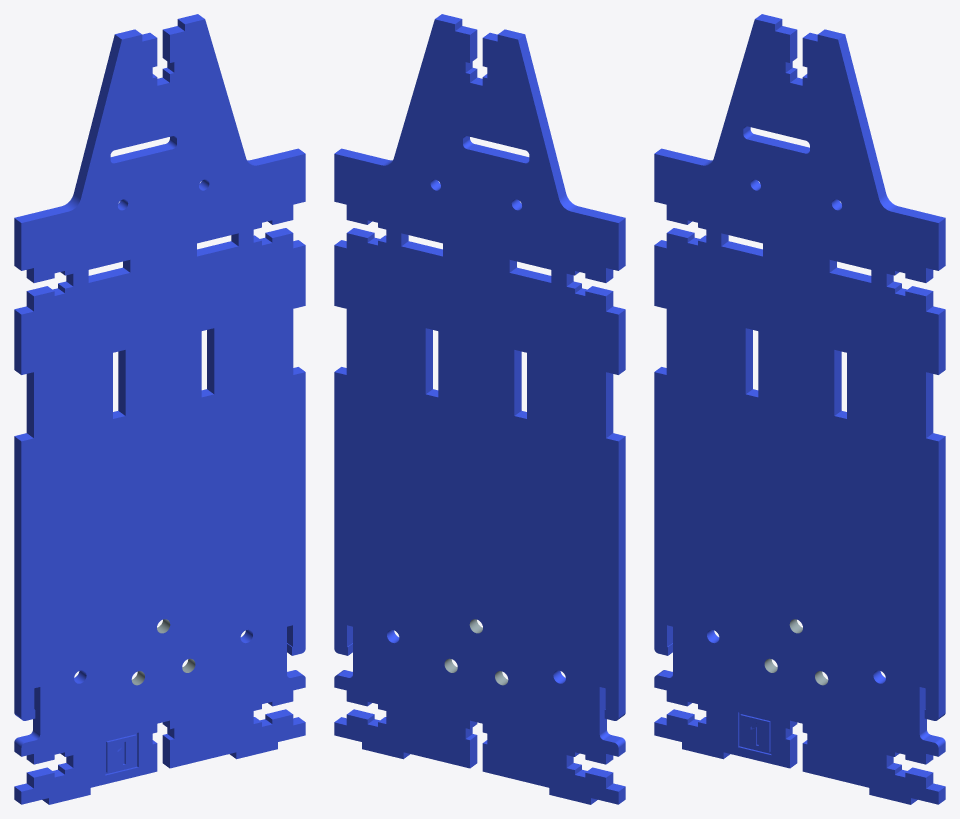
Rendered from Bottom_deck.obj.
3 renders of one model, left to right at view 1: azimuth 30°, elevation 25°; view 2: azimuth 150°, elevation 25°; view 3: azimuth 330°, elevation 25°, orthographic.
Visible parts, largest first — view 1: Body1; view 2: Body1; view 3: Body1.
Part boxes in pixels (x1,y1,x2,y2): Body1: (14,14,305,804); Body1: (334,14,625,804); Body1: (654,14,945,804).
Size of the model in its own units: 6.83 by 17.16 by 0.3.
